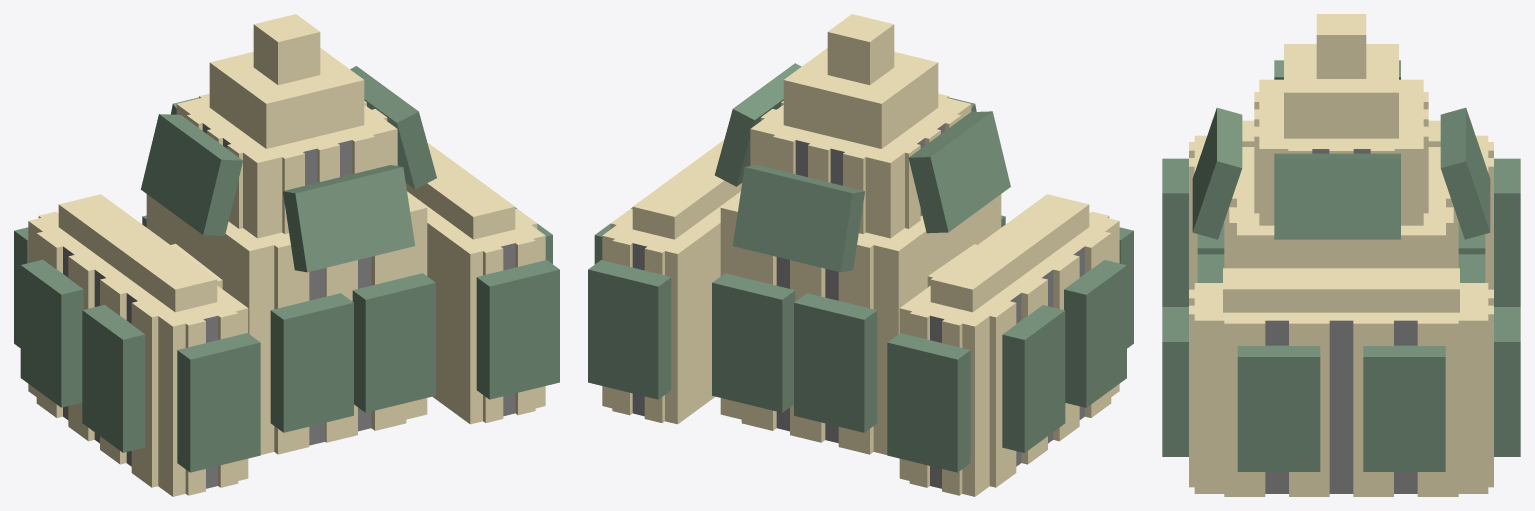
Rendered from Stalinka_armed.fbx.
3 views of the same model, side by side, from view 1: azimuth 30°, elevation 25°; view 2: azimuth 150°, elevation 25°; view 3: azimuth 270°, elevation 25° (orthographic).
Visible parts, largest first — view 1: Stalinka_armed; view 2: Stalinka_armed; view 3: Stalinka_armed.
Boxes of the visible parts, x1,y1,x2,y2 form: Stalinka_armed: [14, 14, 559, 496]; Stalinka_armed: [588, 14, 1133, 496]; Stalinka_armed: [1162, 14, 1520, 496].
Size of the model in its own units: 111 by 91.15 by 78.57.
